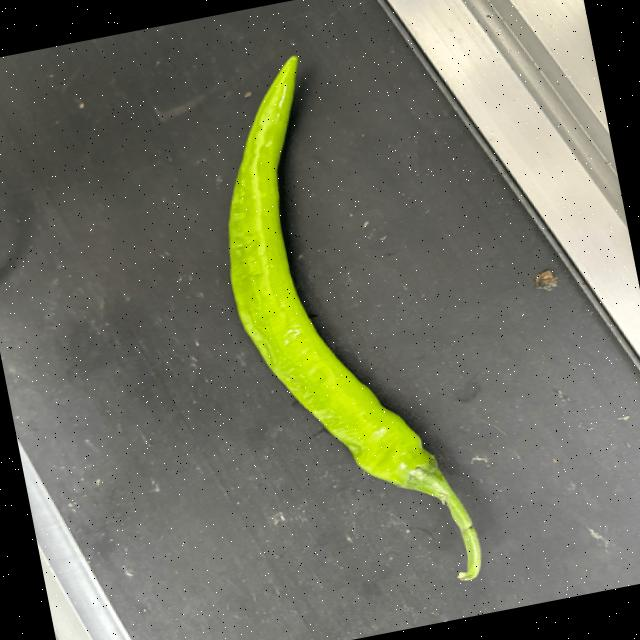chili: (226, 52, 446, 494)
